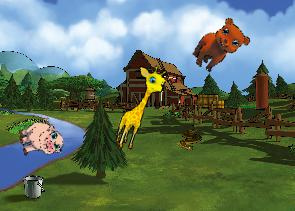bear: (187, 12, 254, 82)
giraffe: (112, 60, 170, 155)
pig: (15, 115, 65, 163)
